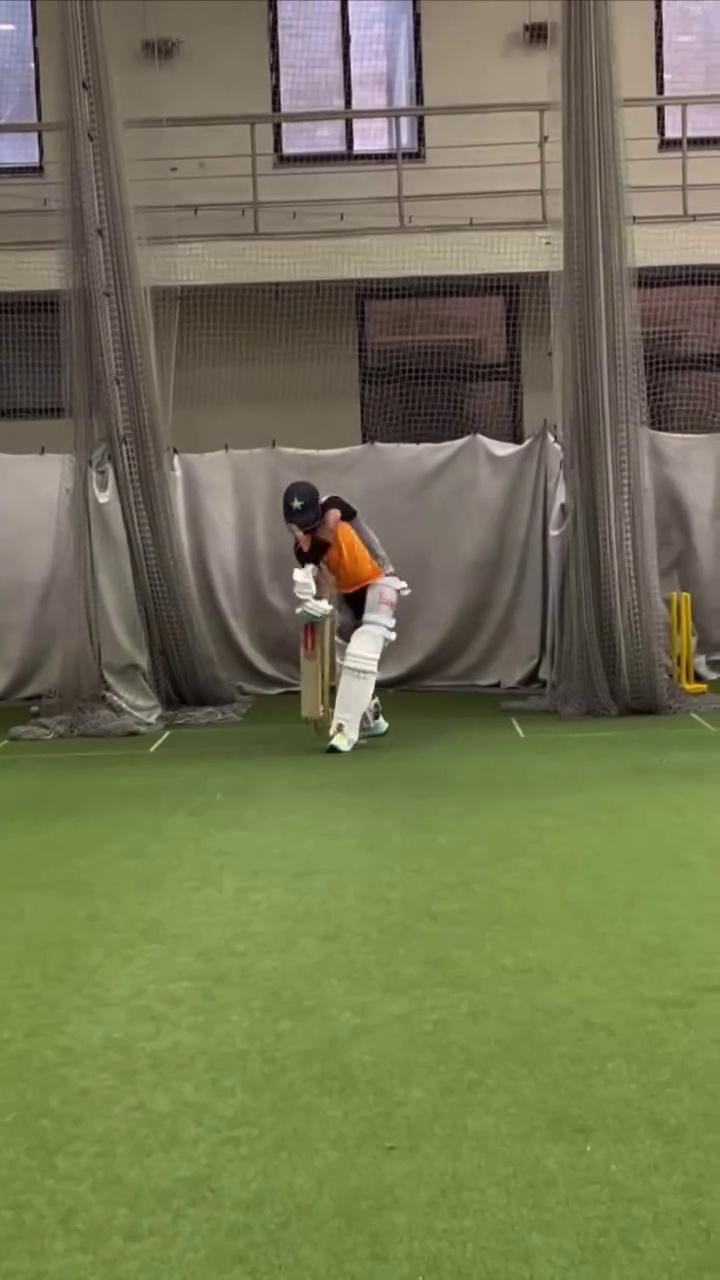bat: (300, 620, 321, 717)
